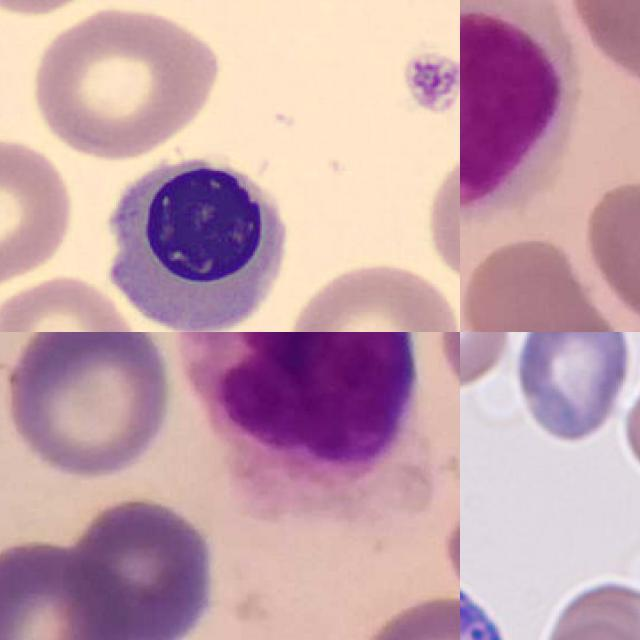Lymphocyte: (91, 148, 297, 332), (460, 0, 584, 227)
Monocyte: (179, 332, 417, 492)
Platelets: (403, 46, 460, 115)
RBC: (24, 2, 226, 160), (511, 332, 633, 449), (278, 257, 460, 332), (0, 132, 79, 289), (0, 271, 144, 332), (418, 139, 460, 290), (460, 332, 512, 394), (617, 363, 640, 484)
